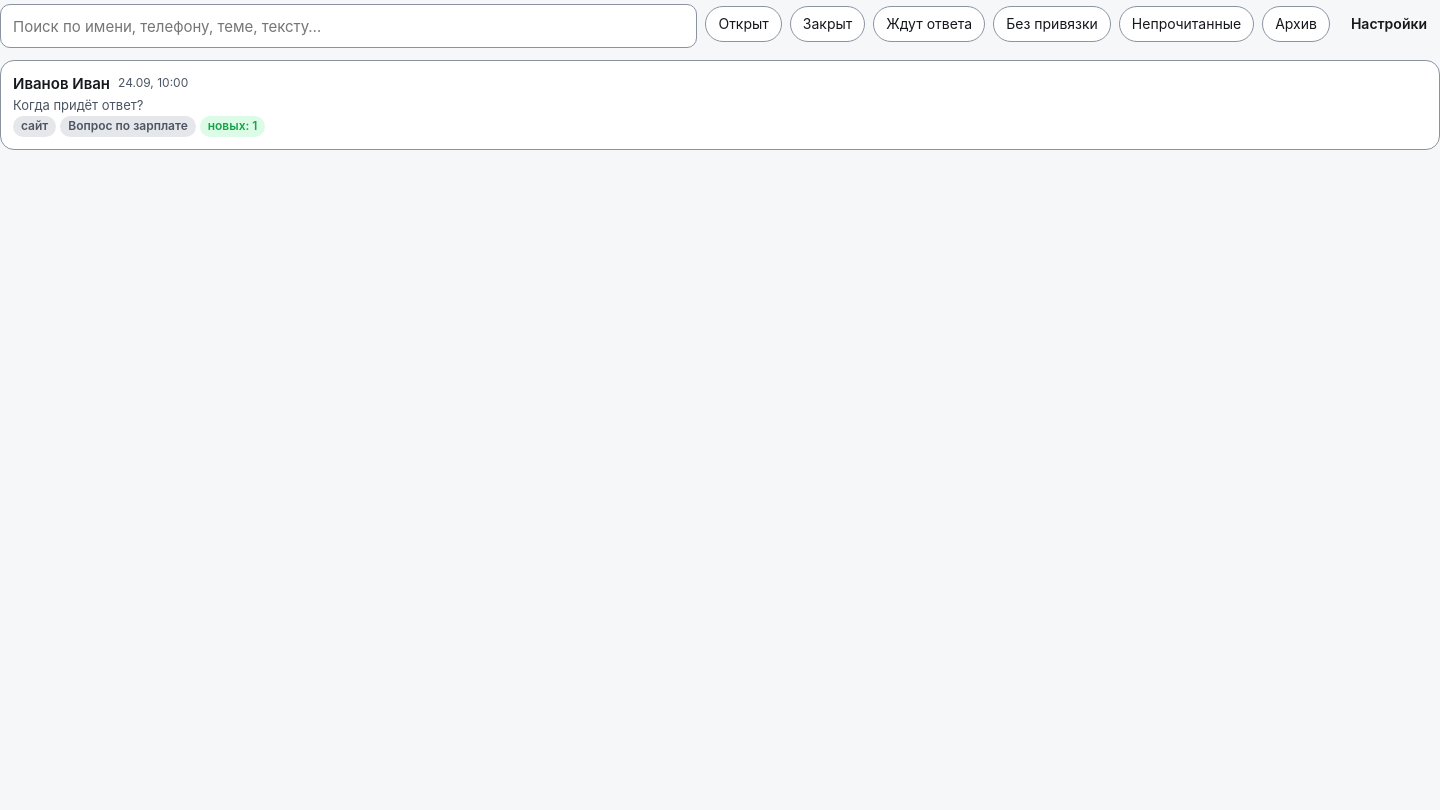
Test: admin видит архив/удаление, cb с support:manage — нет
The width and height of the screenshot is (1440, 810).
Step 1. Click the text "Иванов Иван" → (62, 84), box top-left (13, 73), bottom-right (110, 94)
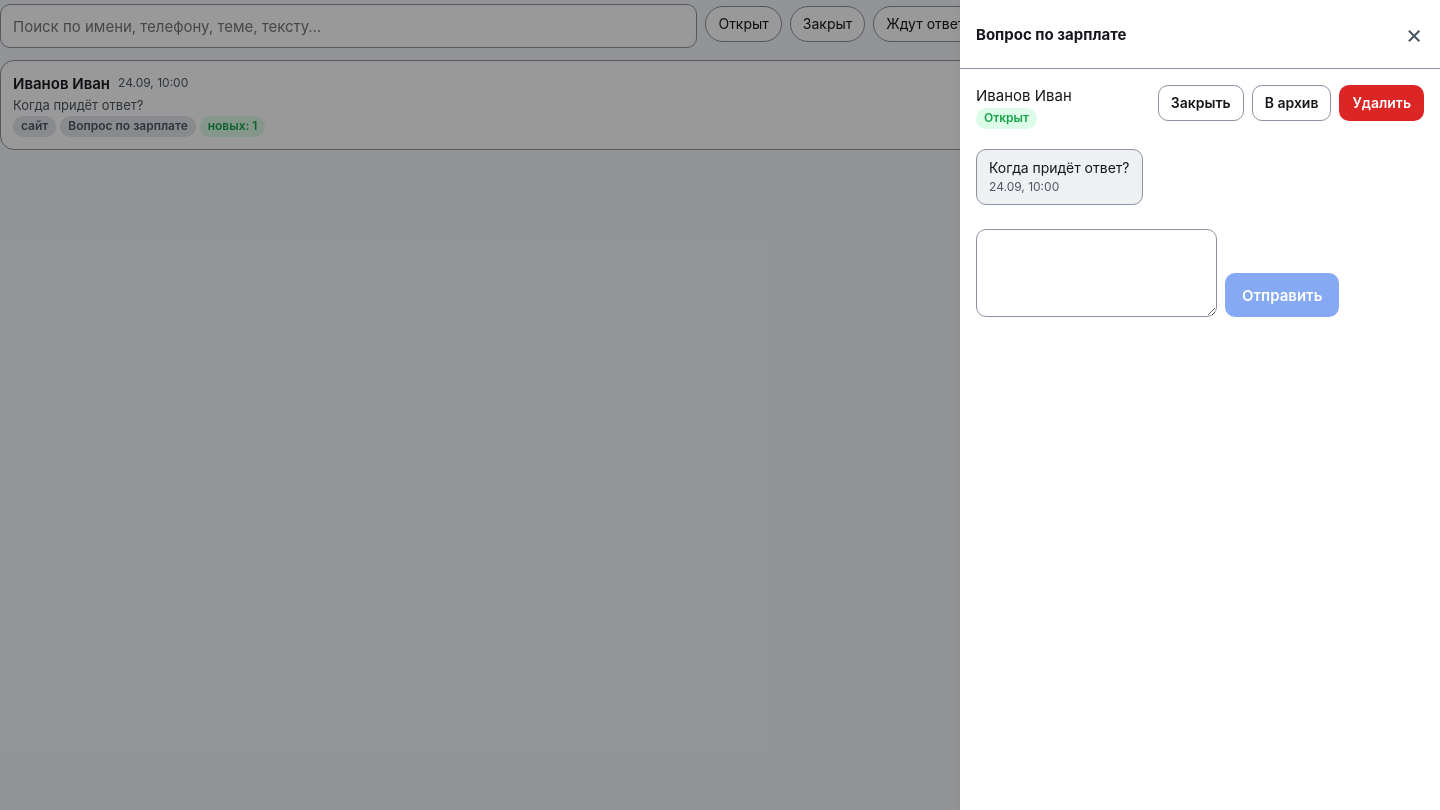
expect the dialog is shown: met, box top-left (960, 0), bottom-right (1439, 809)
expect the button "В архив" is shown: met, box top-left (1252, 85), bottom-right (1331, 121)
expect the button "Удалить" is shown: met, box top-left (1339, 85), bottom-right (1424, 121)
